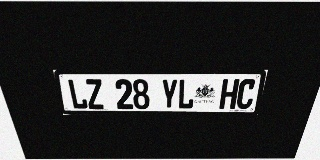2: (115, 79, 133, 109)
8: (132, 79, 150, 109)
C: (235, 79, 257, 109)
H: (219, 79, 240, 109)
L: (67, 79, 88, 109), (177, 79, 195, 109)
Y: (161, 79, 178, 109)
Z: (84, 79, 105, 109)
